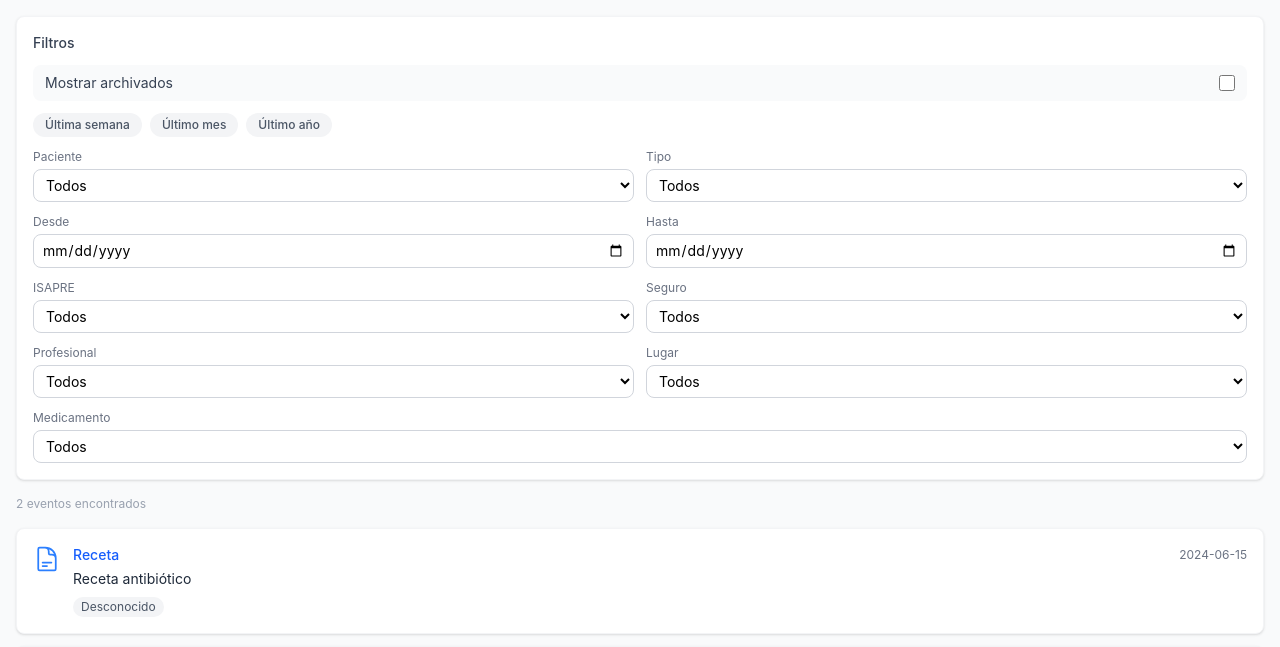
Test: HistorialPage › should filter Receta events by drug name select
Expected: the text "2 eventos encontrados" is shown, [16,496,146,511]
Select "Amoxicilina" in the dropdown labelled "Medicamento": (640, 446) [33,430,1247,463]
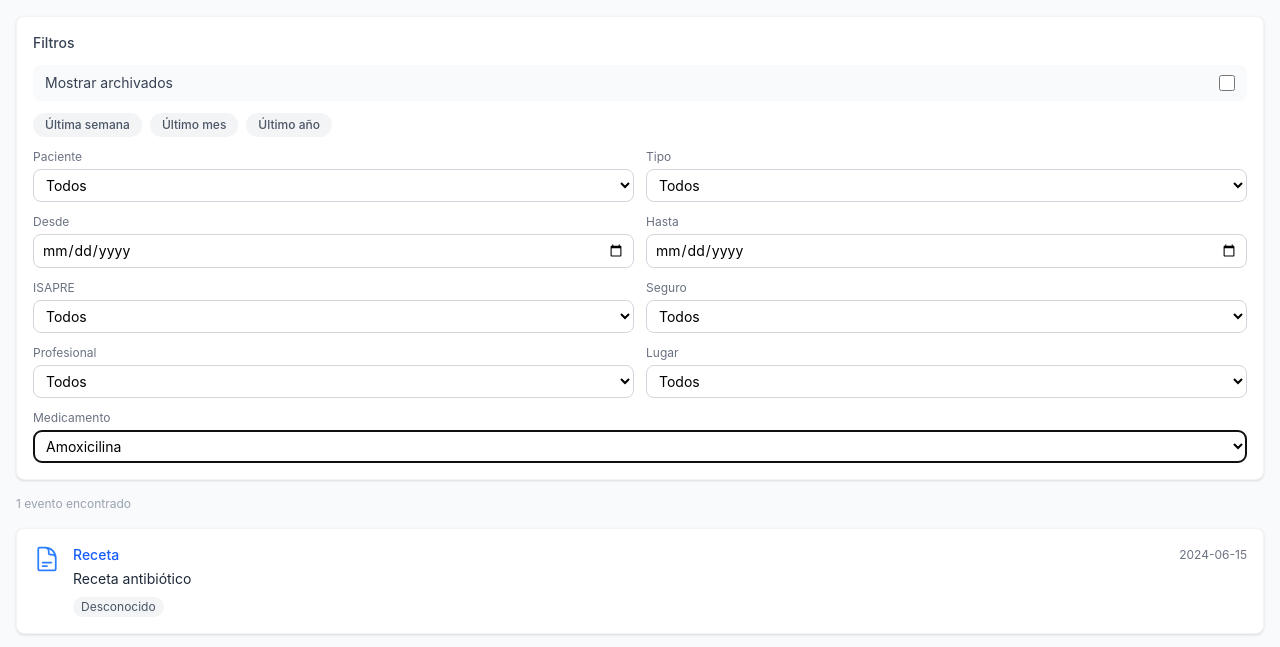
Expected: the text "Receta antibiótico" is shown, [73,570,191,587]
Expected: the text "1 evento encontrado" is shown, [16,496,131,511]
